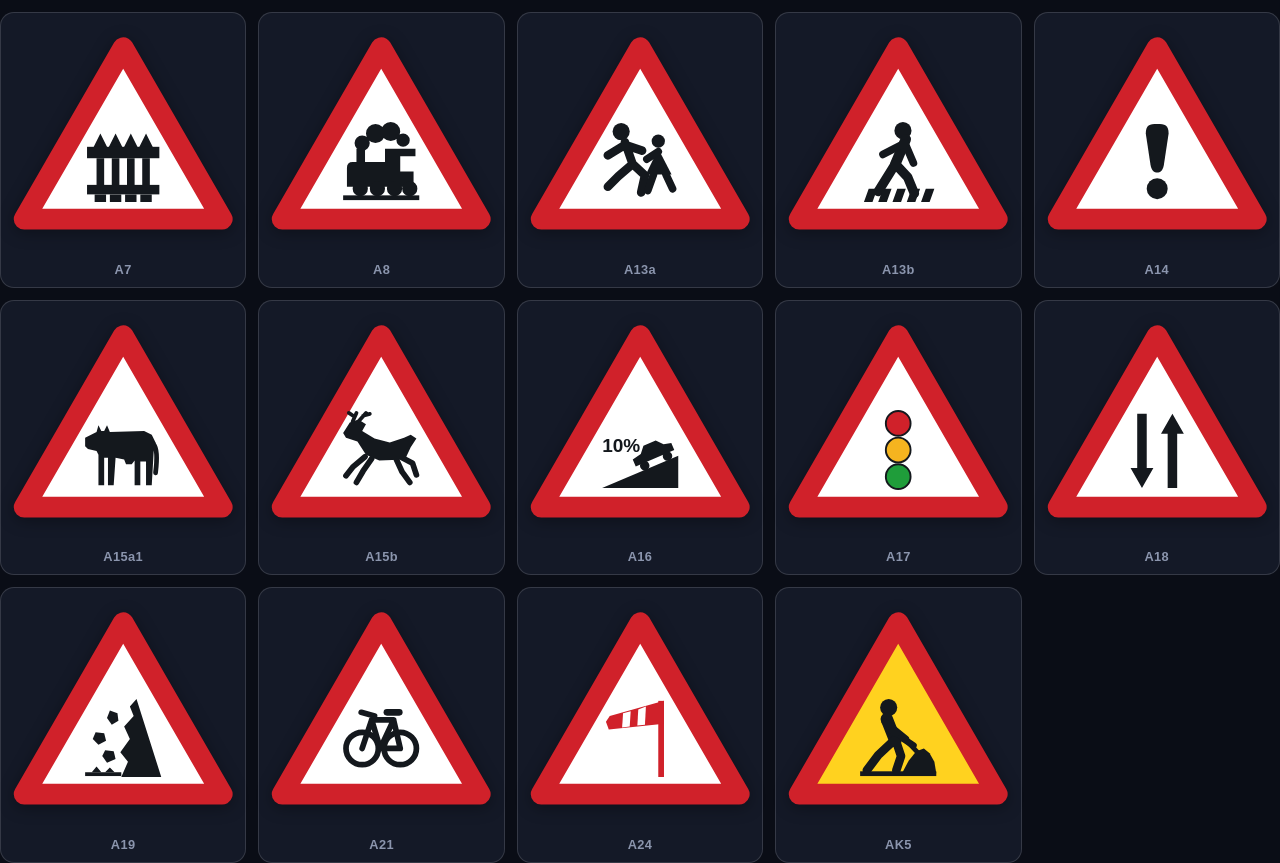
Scenario: PanneauxRevision : fiche <Dialog> › un jumeau d’une autre famille ouvre sa fiche et suit sa famille
(page scrolled)
Click the button "A21" at (382, 725), box [258,587,505,862]
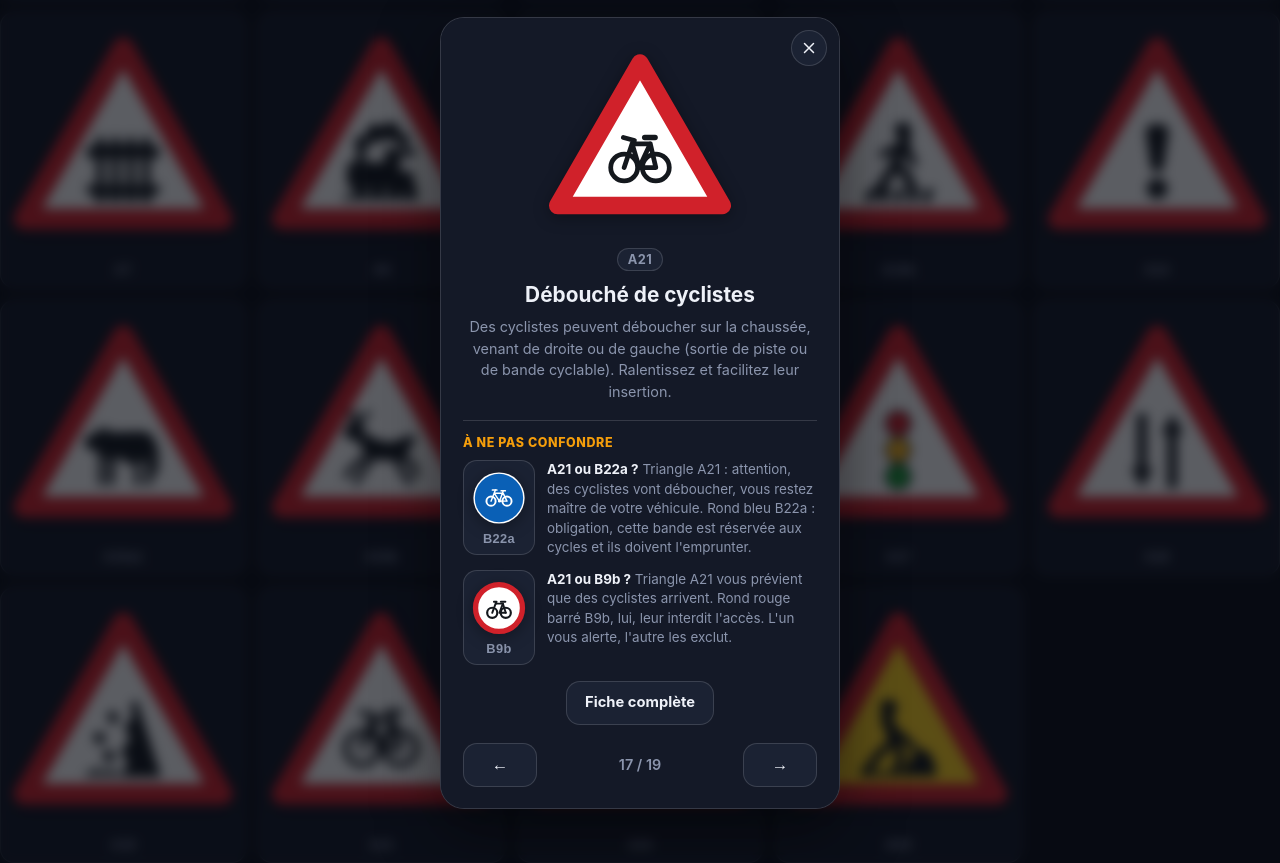
Click the button named "Ouvrir la fiche B9b" at (499, 617), box [463,570,535,665]
(page scrolled)
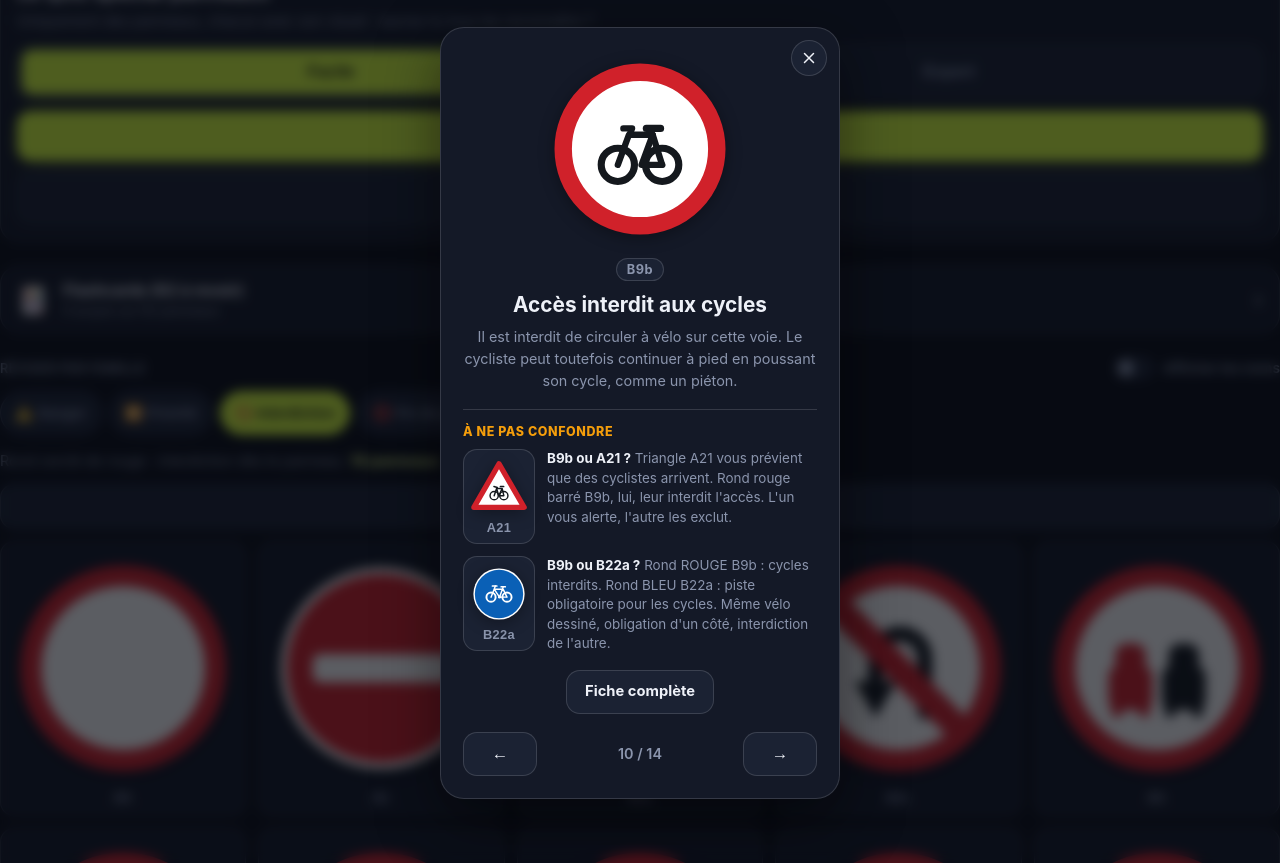
Expected: the heading "Accès interdit aux cycles" is shown, [513,292,767,317]
